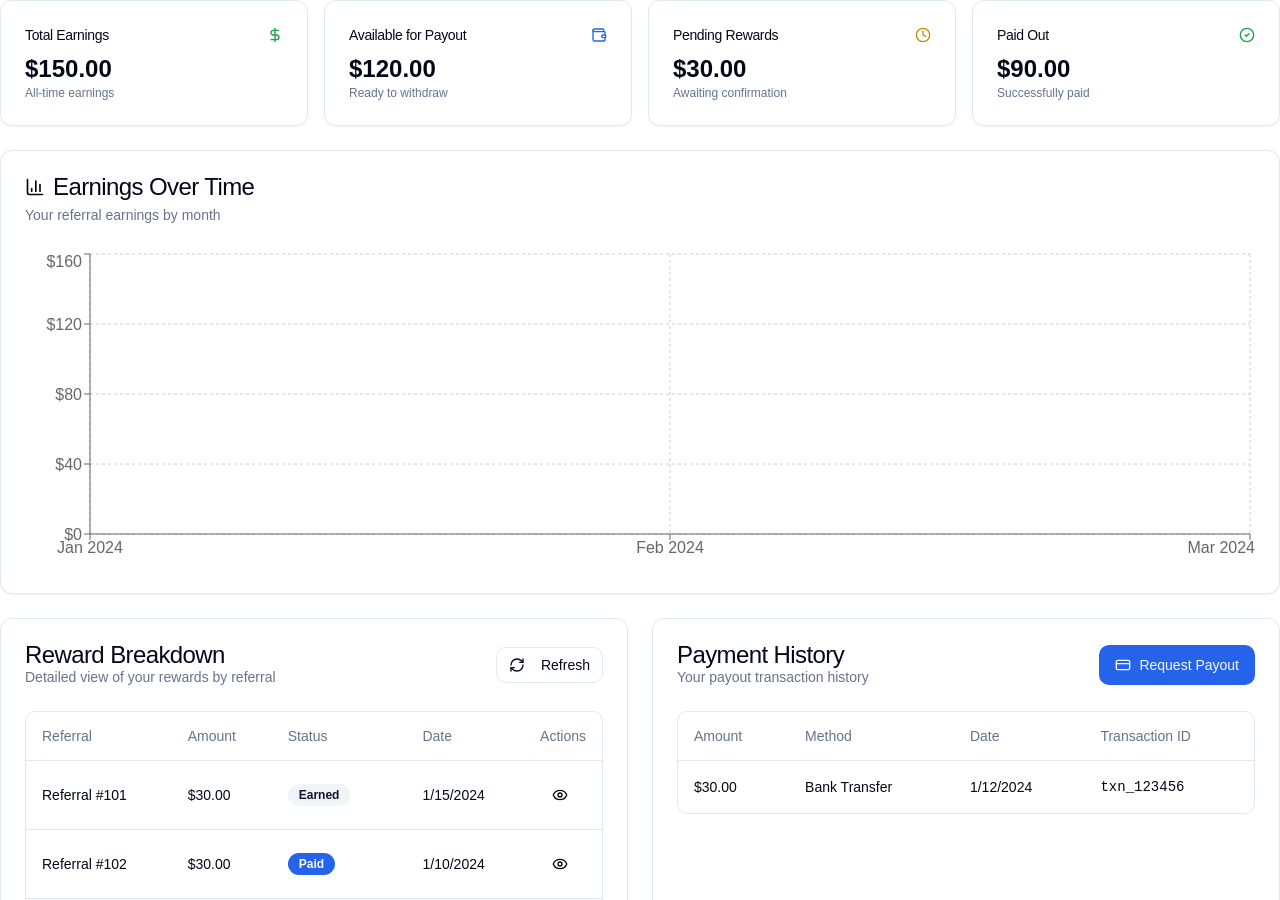
Test: RewardsDashboard › opens reward details modal when view button is clicked
The width and height of the screenshot is (1280, 900).
Expected: the heading "Reward Breakdown" is shown, [25, 641, 225, 668]
Click the button without text in the row of "101".
click(560, 794)  # box [540, 776, 580, 812]
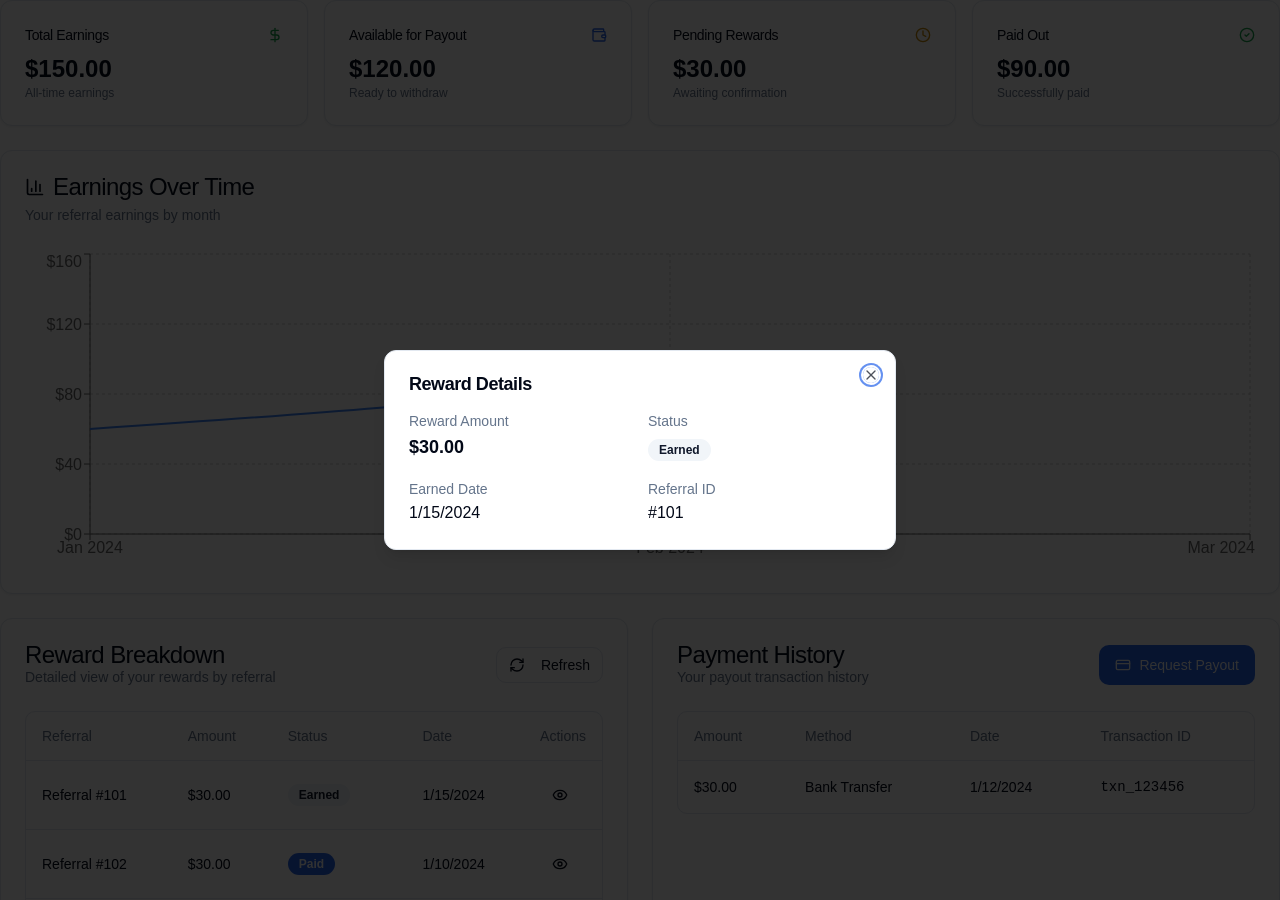
Expected: the heading "Reward Details" is shown, [409, 374, 532, 394]
